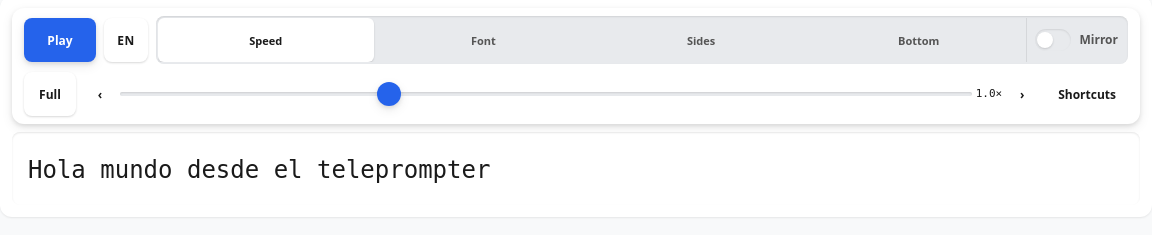
Test: Player adaptive sync › does not enable speech sync when play is pressed
This screenshot has width=1152, height=235.
Click the button "Play": (60, 40) [24,18,96,62]
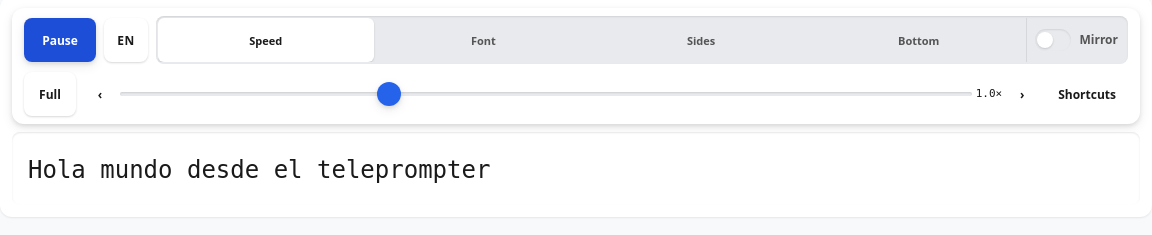
Expected: the button "Pause" is shown, [24,18,96,62]
